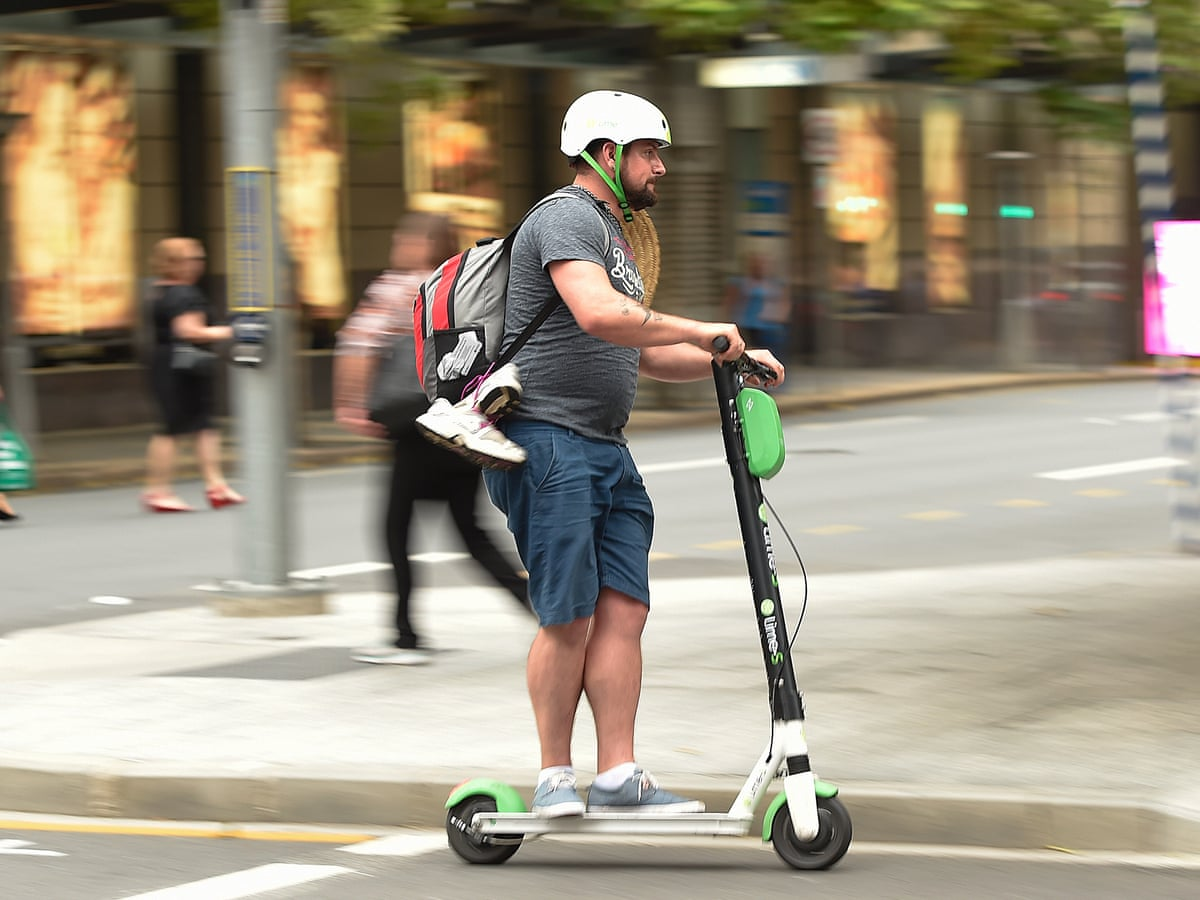scooter: (449, 334, 856, 873)
with helmet: (560, 84, 675, 223)
